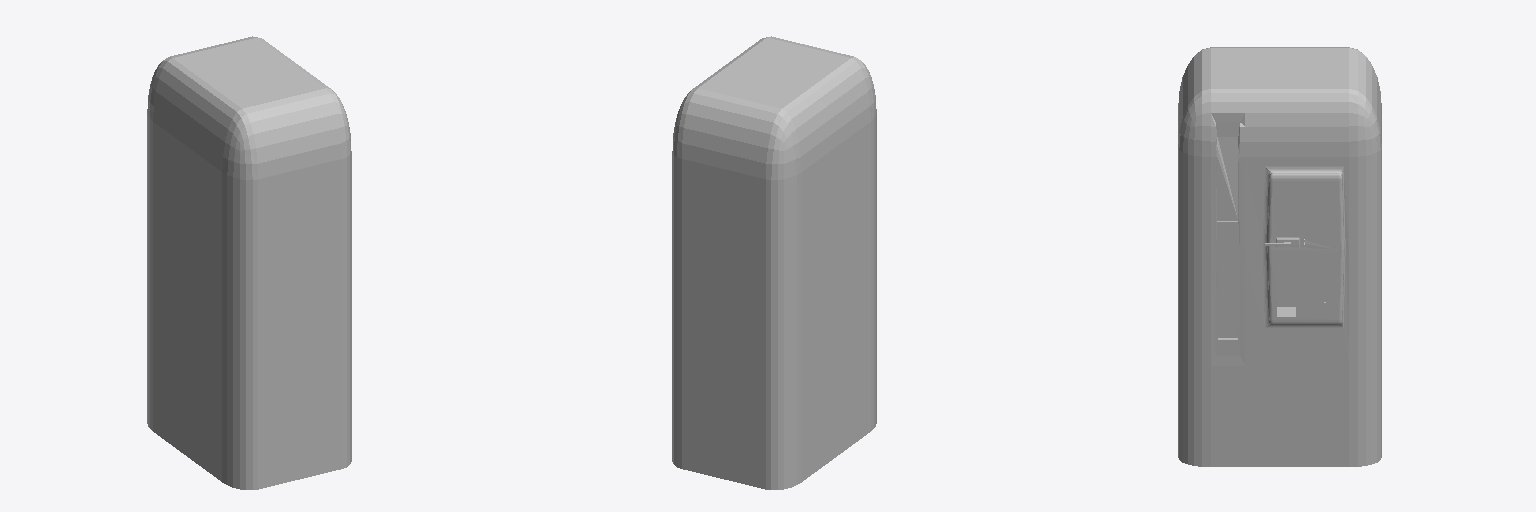
The model's file is cola_machine.obj.
The picture shows the model from 3 angles: view 1: azimuth 30°, elevation 25°; view 2: azimuth 150°, elevation 25°; view 3: azimuth 270°, elevation 25°; orthographic projection.
Visible parts, largest first — view 1: ColaMachine; view 2: ColaMachine; view 3: ColaMachine, Glass.
Part boxes in pixels (left/top/right/bottom): ColaMachine: left=147, top=36, right=351, bottom=489; ColaMachine: left=672, top=36, right=876, bottom=489; ColaMachine: left=1178, top=47, right=1381, bottom=466; Glass: left=1217, top=137, right=1237, bottom=337.
Bounding box in the file's own units: 1.55 × 4 × 2.